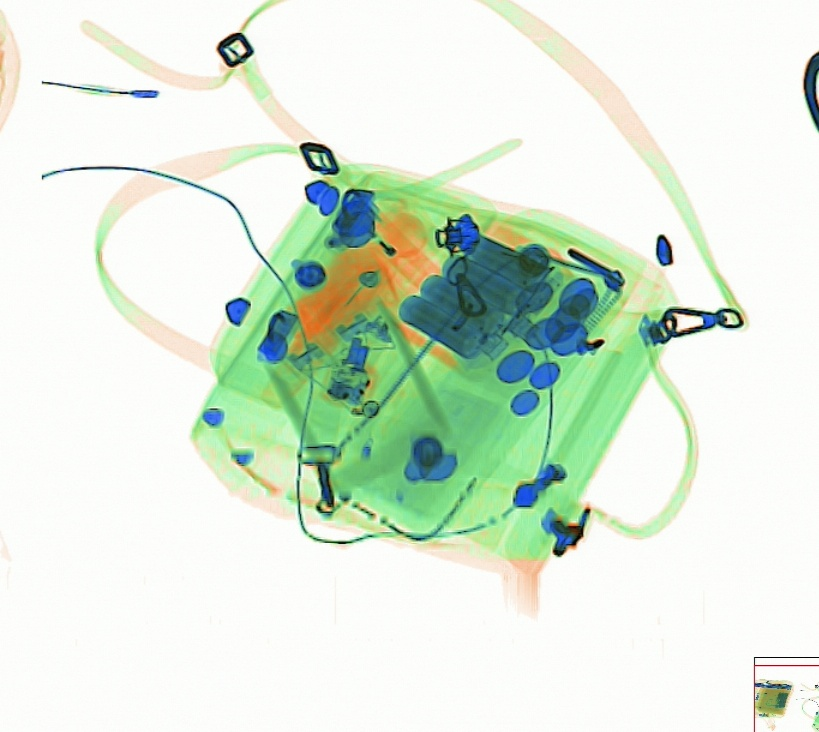lighter: (335, 191, 445, 300)
powerbank: (395, 230, 567, 360)
